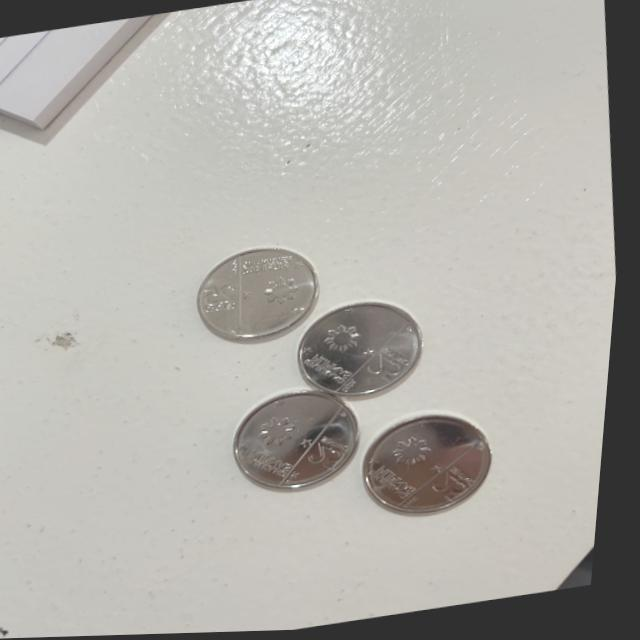25Cent_New_Front: (368, 343, 427, 388), (436, 459, 490, 508), (309, 432, 364, 476), (199, 279, 253, 320)
